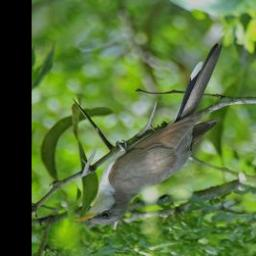Cuckoo: (73, 44, 224, 225)
